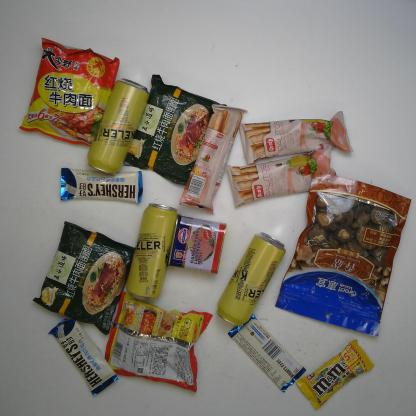Alcohol: (216, 230, 287, 326), (86, 78, 152, 178), (125, 202, 179, 302)
Canned Food: (166, 213, 228, 275)
Chocolate: (228, 312, 307, 394), (294, 338, 376, 412), (47, 316, 119, 398), (59, 166, 144, 204)
Dessert: (178, 103, 249, 215), (226, 143, 337, 210), (238, 110, 355, 166)
Dried Food: (273, 170, 414, 338)
Instant Noodles: (32, 220, 136, 336), (124, 73, 228, 186), (104, 290, 214, 394), (17, 37, 120, 147)
